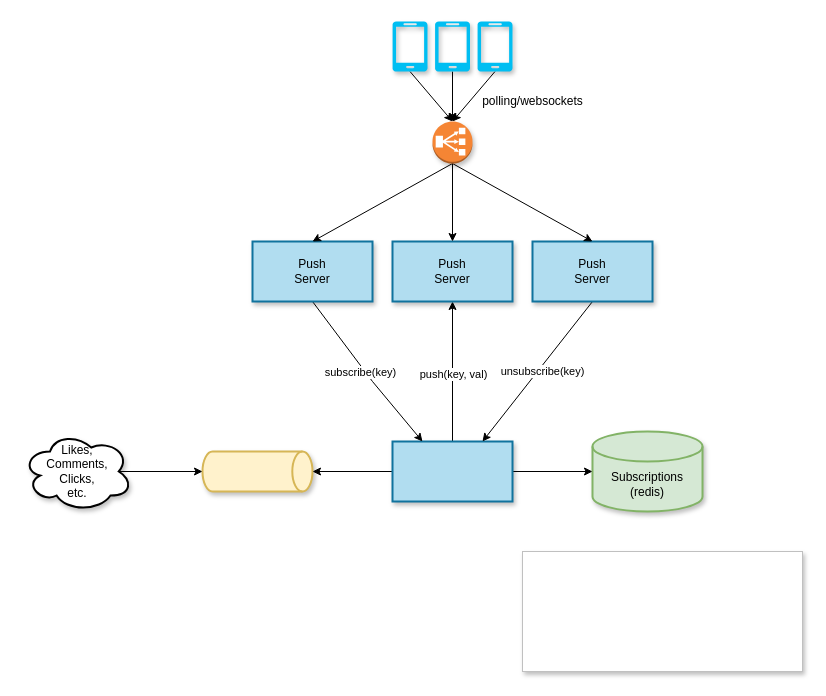
Some shapes in this 826 by 696 pixel diagram are drawn without their labels. Each missing label, with the centre of its shape:
Events (Kafka): pixel 258 472
Fanout Server: pixel 453 472
Key Subscribers <post ID> server 0, server 5 <video ID> server 1, server 3: pixel 663 612
